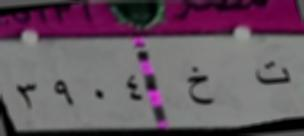0: (91, 84, 106, 106)
3: (14, 79, 40, 118)
4: (121, 68, 145, 107)
9: (51, 78, 77, 110)
khaa: (182, 63, 217, 117)
taa: (249, 54, 294, 93)
